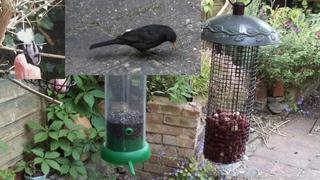blackbird: (89, 24, 177, 58)
long tailed tit: (27, 24, 41, 66)
